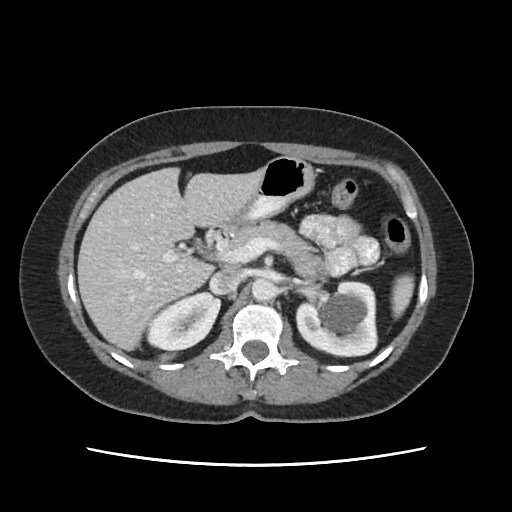Lesion: (315, 294, 371, 338)
